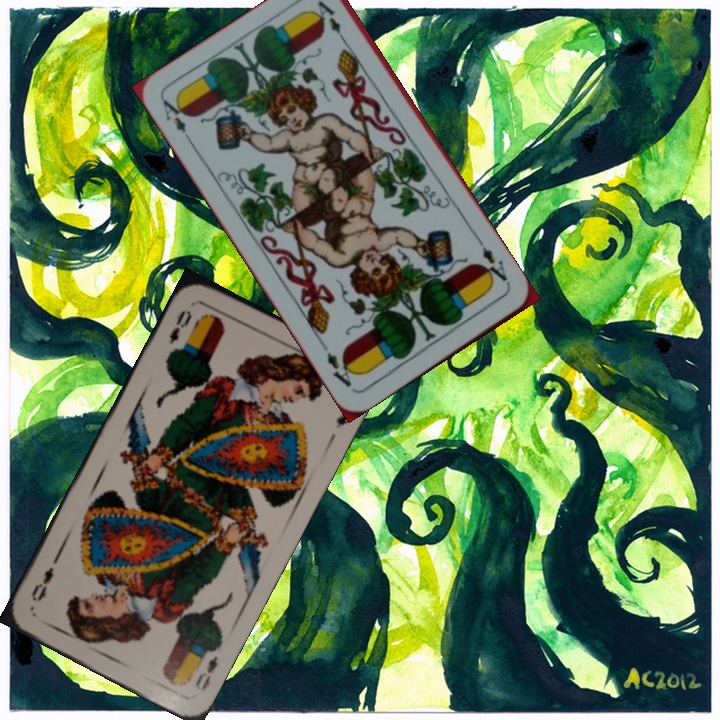EA: (158, 93, 196, 148), (474, 236, 513, 289)
EO: (165, 305, 195, 346), (191, 651, 221, 692)
